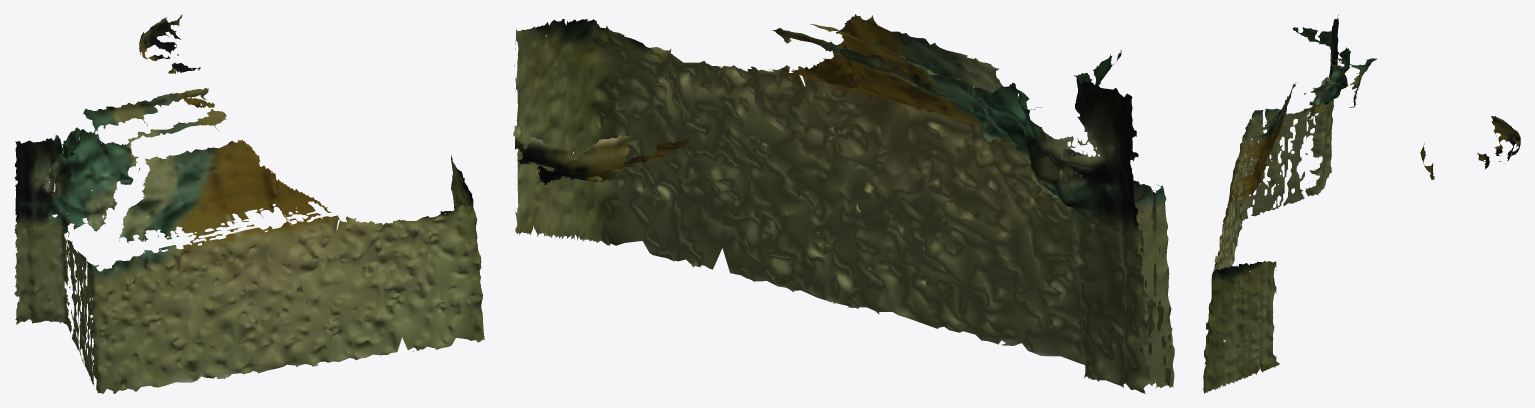
Rendered from color_model_f001_20260209_014324.obj.
3 renders of one model, left to right at view 1: azimuth 30°, elevation 25°; view 2: azimuth 150°, elevation 25°; view 3: azimuth 270°, elevation 25°, orthographic. The views are drawn at different scales.
Size of the model in its own units: 1.98 by 1.12 by 1.51.
